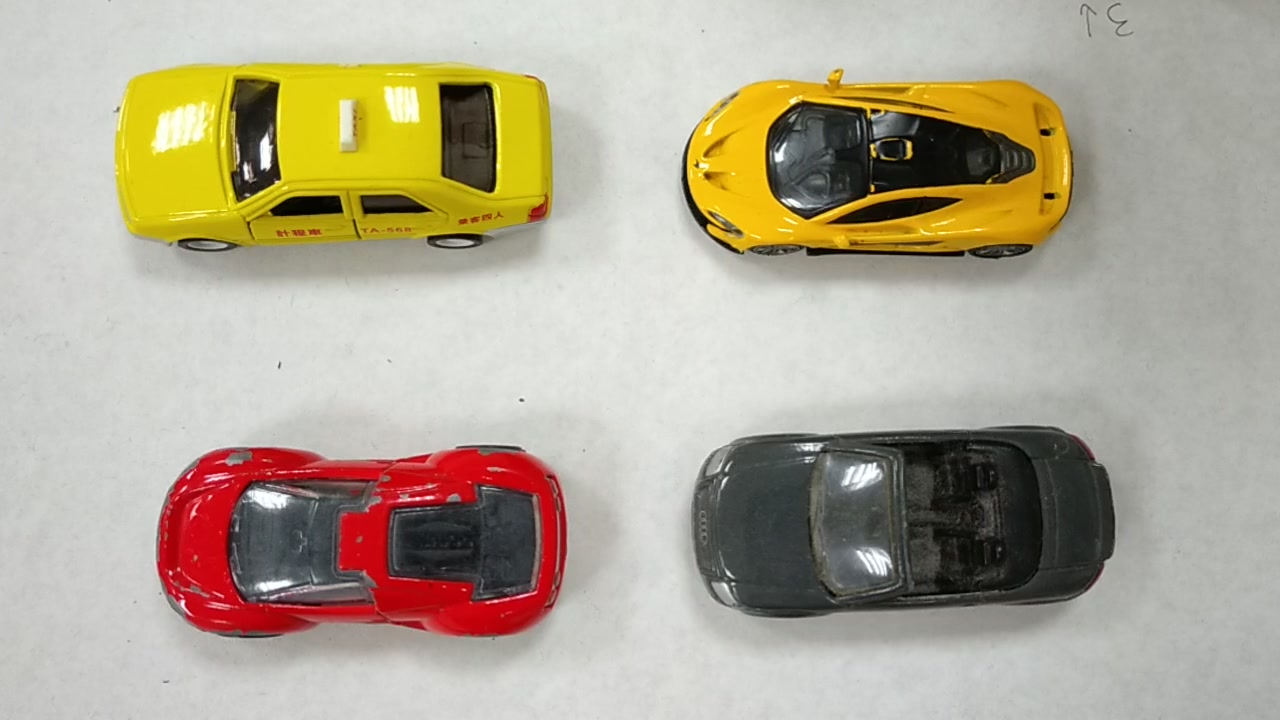car: (690, 424, 1107, 610), (156, 452, 568, 621), (115, 74, 554, 228), (679, 82, 1063, 253)
